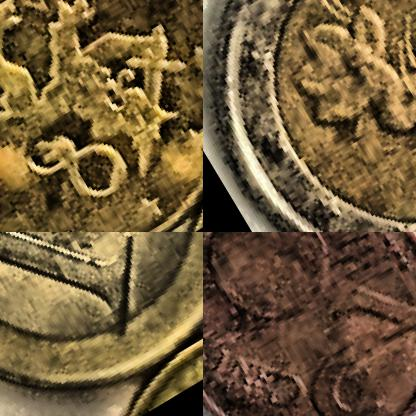coin: (203, 0, 415, 231), (0, 0, 202, 231), (203, 232, 415, 415), (0, 232, 202, 415)
